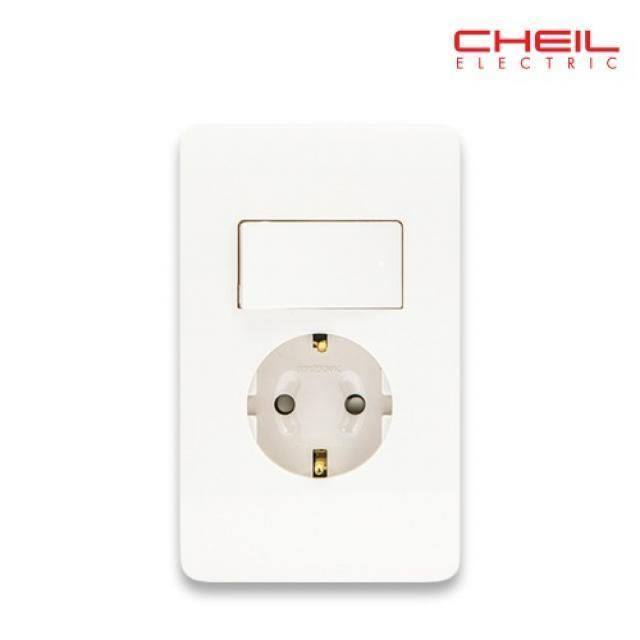typeb: (152, 80, 514, 599)
